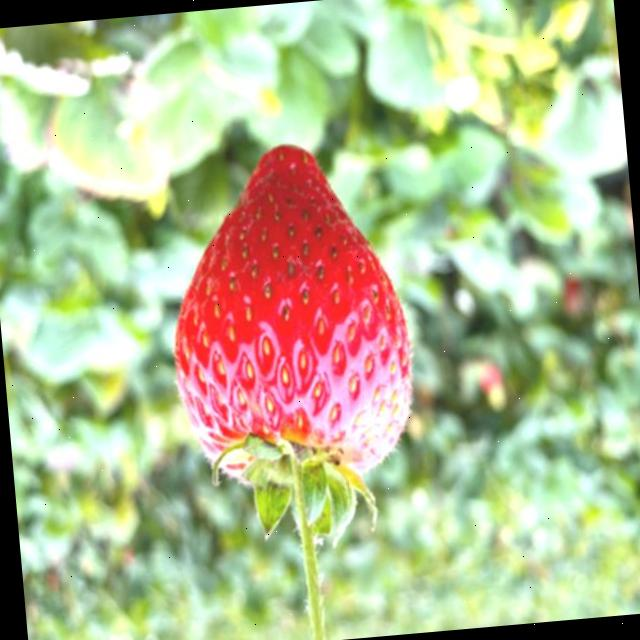strawberry: (173, 146, 410, 640)
